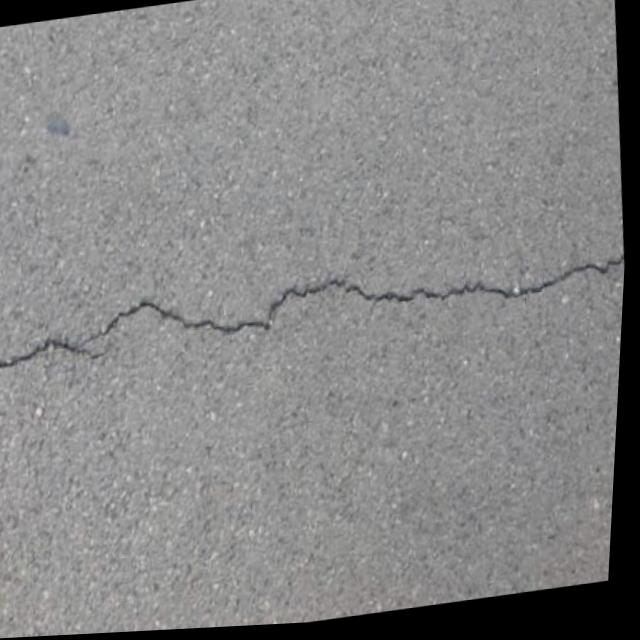Crack: (0, 219, 630, 395)
